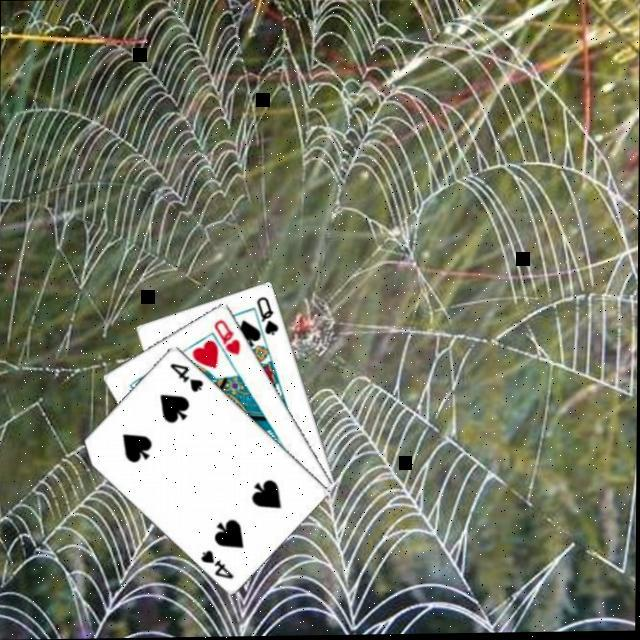4S: (165, 361, 205, 397), (195, 548, 235, 582)
QH: (209, 317, 241, 359)
QS: (252, 295, 280, 340)
